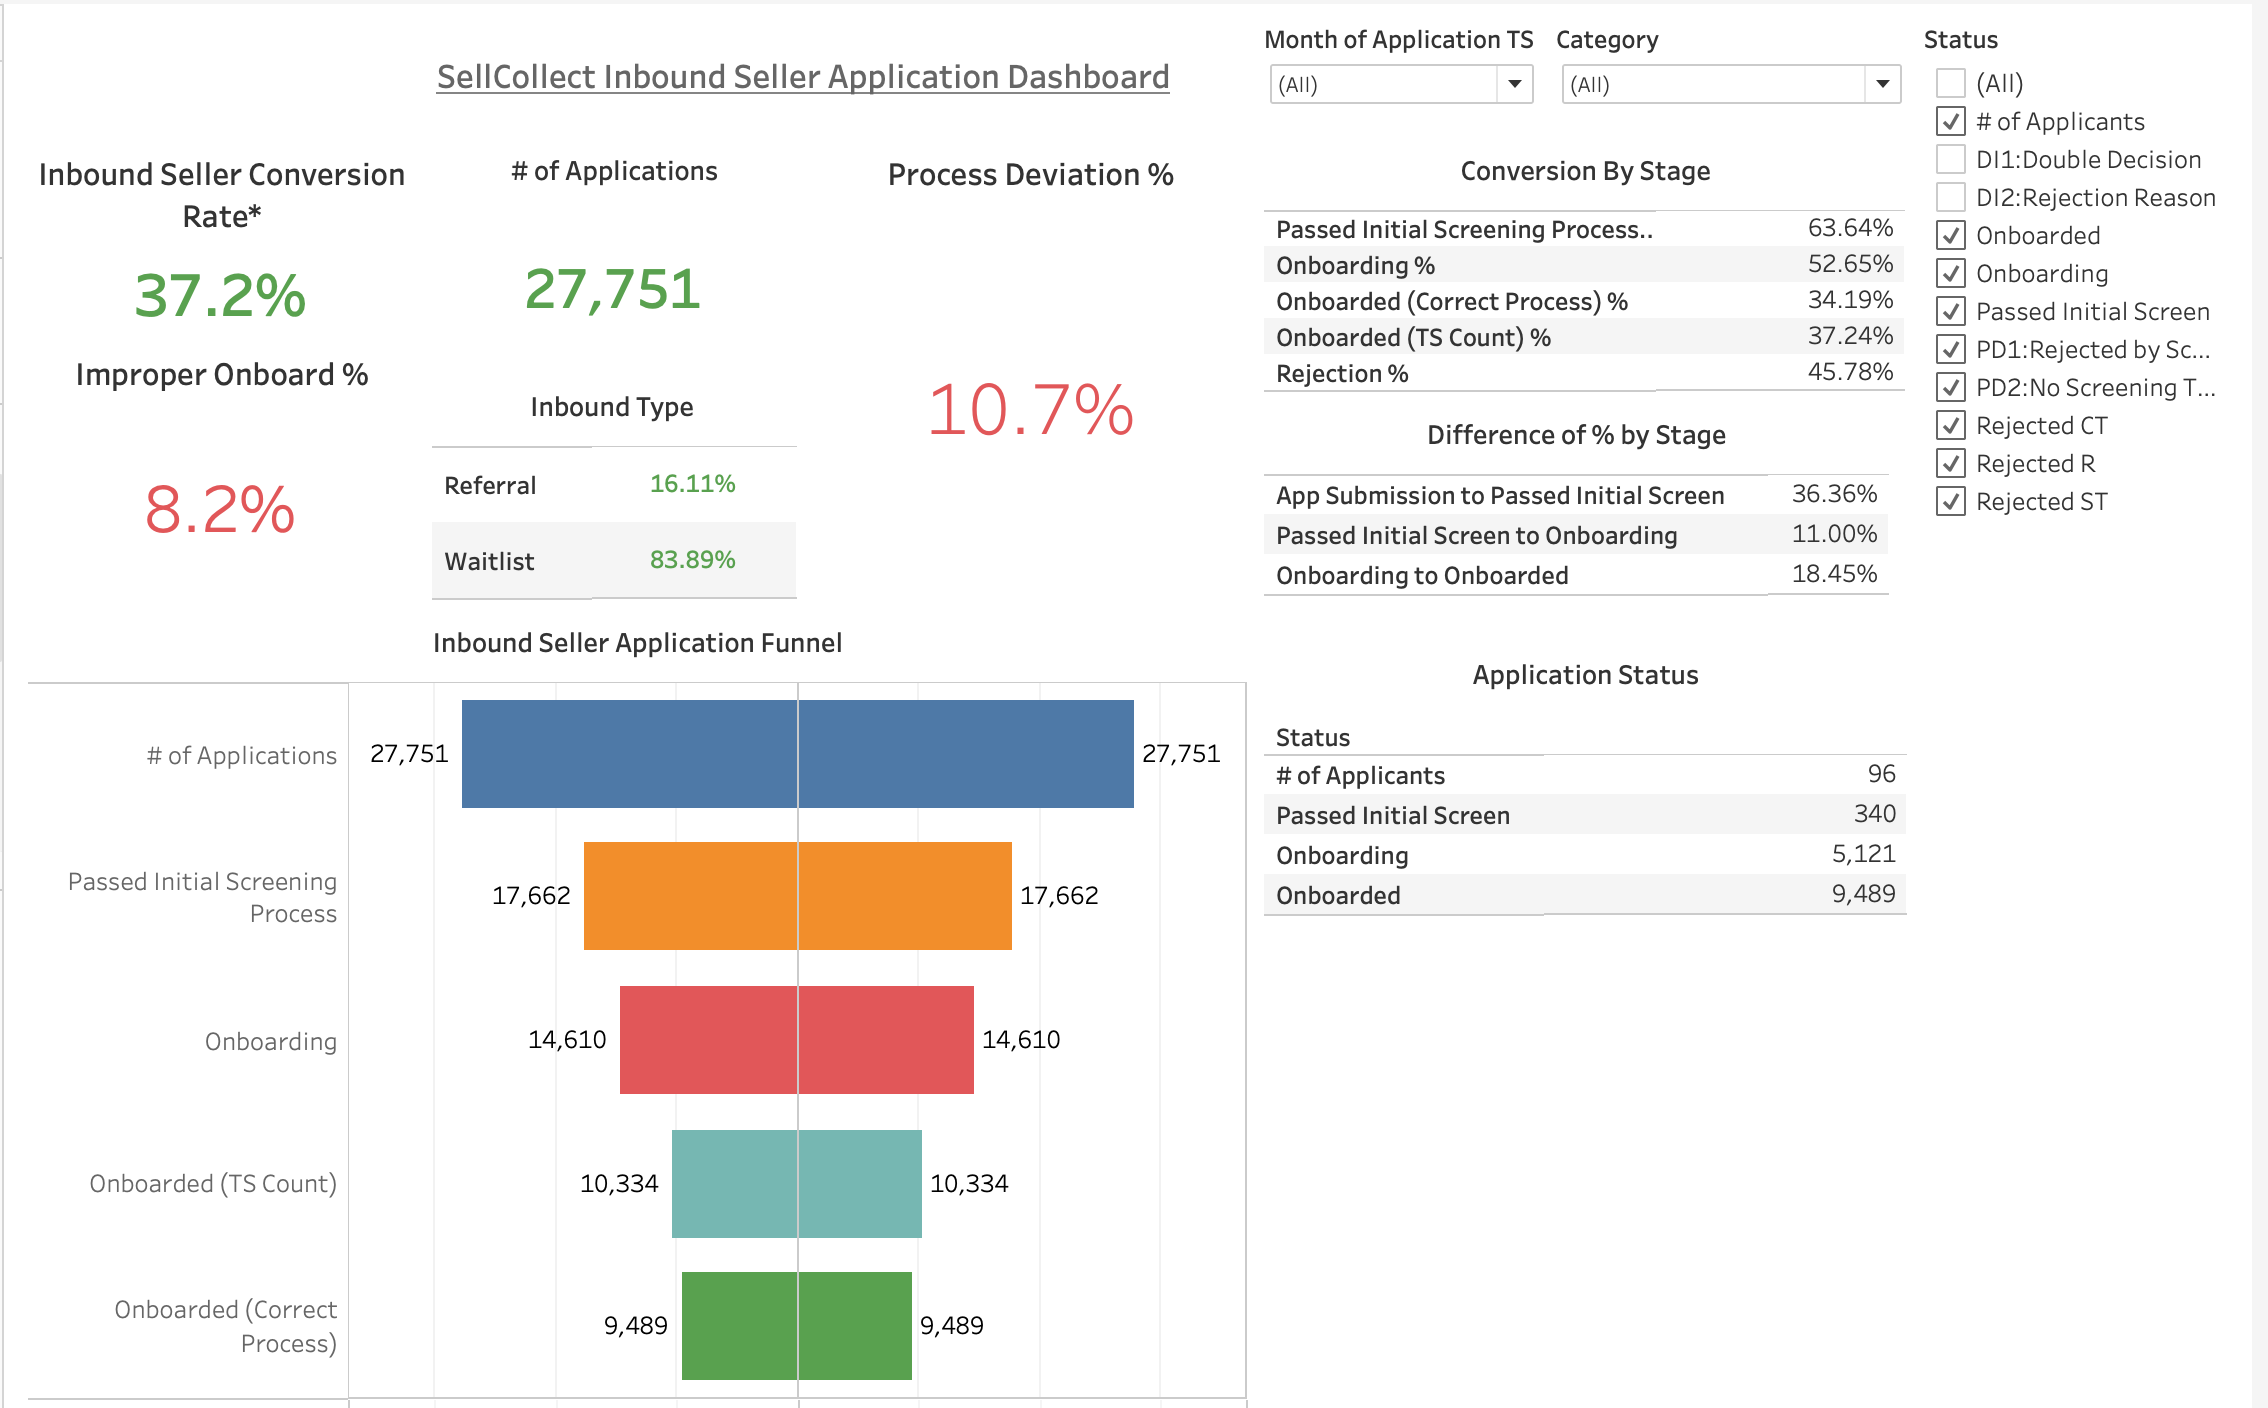

The page's visual inventory and layout, read from the dashboard file:
{"tool":"tableau","page":{"name":"Category Drilldown","canvas":[1124,768],"ordinal":0},"visuals":[{"type":"image","param":"Image/wn_Logo.jpeg","box":[8,8,202.3,61]},{"type":"text","box":[210.3,8,415.7,61]},{"type":"filter","title":"# of Applications","param":"[federated.0mdolbm0qpgolj1ear69k0rfk2zm].[mn:Application TS:ok]","box":[626,8,145.9,61]},{"type":"filter","title":"Improper Onboard %","param":"[federated.0mdolbm0qpgolj1ear69k0rfk2zm].[none:Category:nk]","box":[771.9,8,184.1,61]},{"type":"filter","title":"# of Applications","param":"[federated.0mdolbm0qpgolj1ear69k0rfk2zm].[none:Status:nk]","box":[956,8,160,312]},{"type":"worksheet","title":"Inbound Seller Conversion Rate","mark":"Automatic","box":[8,69,202.3,99.6]},{"type":"worksheet","title":"# of Applications","mark":"Automatic","box":[210.3,69,190.8,118]},{"type":"worksheet","title":"Process Deviation %","mark":"Automatic","box":[401.1,69,224.9,236]},{"type":"worksheet","title":"Conversion By Stage","mark":"Automatic","box":[626,69,330,132]},{"type":"worksheet","title":"Improper Onboard %","mark":"Automatic","box":[8,168.6,202.3,136.4]},{"type":"worksheet","title":"Inbound Type ","mark":"Automatic","rows":["Inbound Type"],"box":[210.3,187,190.8,118]},{"type":"worksheet","title":"Drop Off Rate","mark":"Automatic","box":[626,201,330,120]},{"type":"worksheet","title":"Funnel Chart","mark":"Bar","box":[8,305,618,455]},{"type":"worksheet","title":"In Progress","mark":"Automatic","rows":["Status"],"box":[626,321,330,341]},{"type":"text","box":[626,662,330,98]}]}

Visuals, with their boxes on the page's 1124x768 design canvas (x1, y1, x2, y2). These are canvas units, not pixel positions in the 2268x1408 screenshot, which may show the page scaled, cropped or inside an application window:
image: 8, 8, 210, 69
text: 210, 8, 626, 69
"# of Applications" filter: 626, 8, 772, 69
"Improper Onboard %" filter: 772, 8, 956, 69
"# of Applications" filter: 956, 8, 1116, 320
"Inbound Seller Conversion Rate" worksheet: 8, 69, 210, 169
"# of Applications" worksheet: 210, 69, 401, 187
"Process Deviation %" worksheet: 401, 69, 626, 305
"Conversion By Stage" worksheet: 626, 69, 956, 201
"Improper Onboard %" worksheet: 8, 169, 210, 305
"Inbound Type " worksheet: 210, 187, 401, 305
"Drop Off Rate" worksheet: 626, 201, 956, 321
"Funnel Chart" worksheet (Bar marks): 8, 305, 626, 760
"In Progress" worksheet: 626, 321, 956, 662
text: 626, 662, 956, 760
